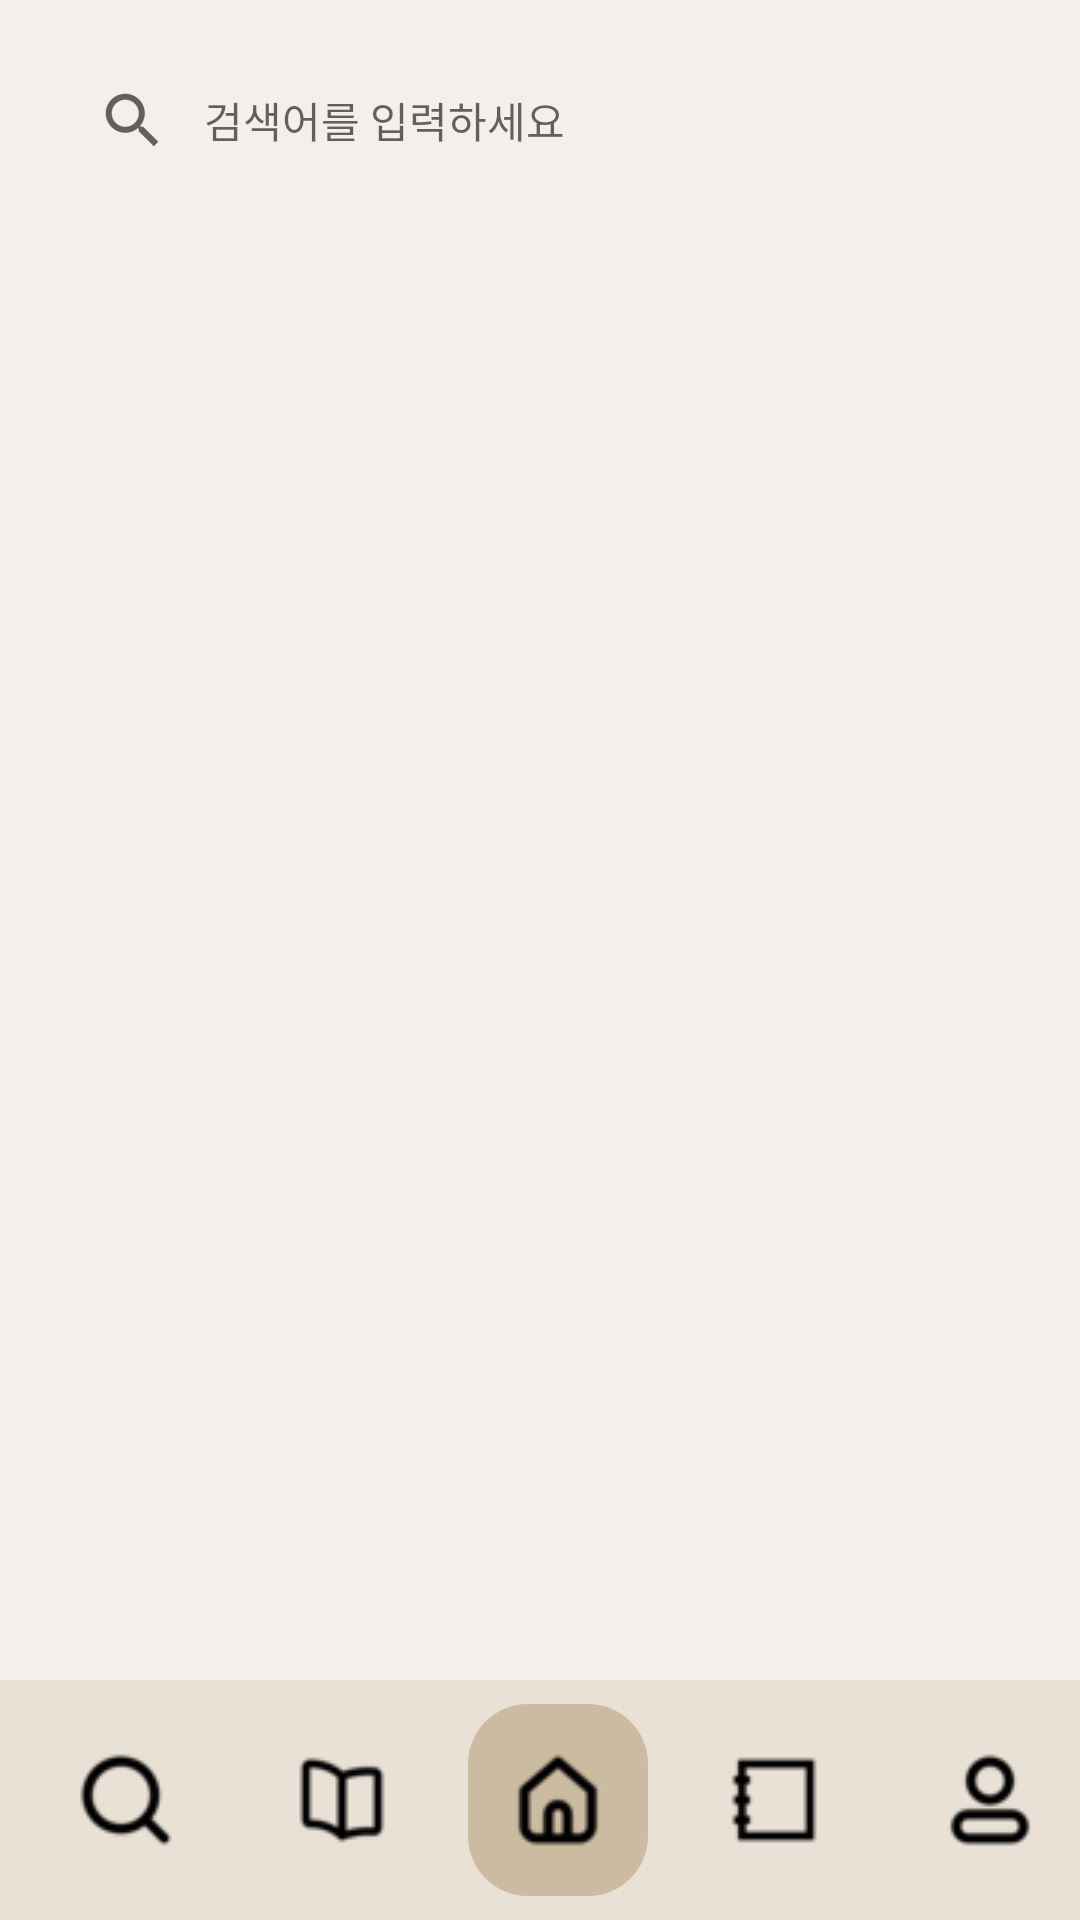

Screen size 1080 × 1920. Icon name, then its box in pixels as (x1, y1, x2, y2):
book: (299, 1757, 385, 1843)
home: (468, 1704, 648, 1896)
note: (731, 1757, 817, 1843)
profile: (950, 1754, 1030, 1846)
search: (105, 93, 158, 146), (80, 1754, 172, 1846)
